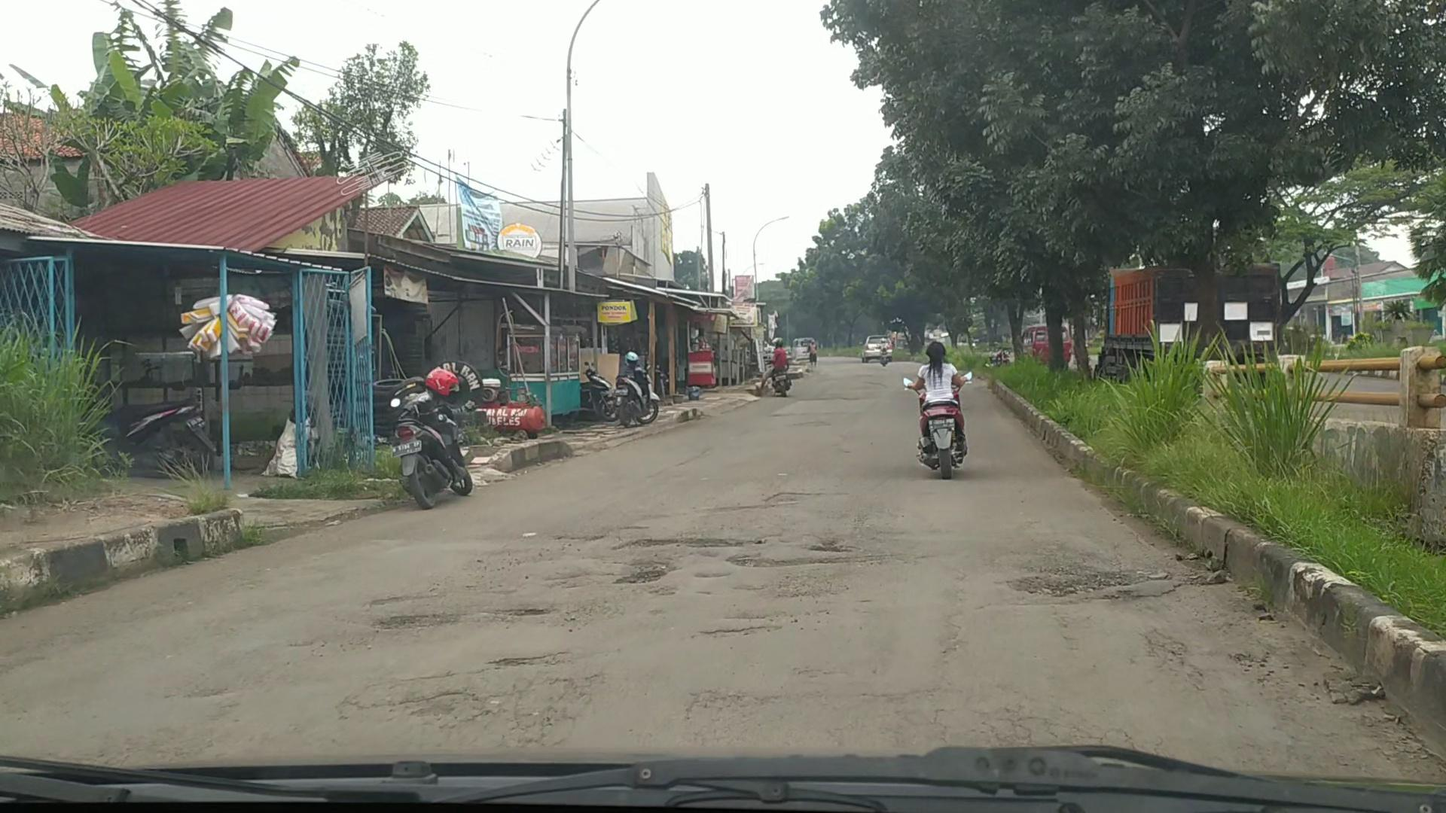pothole: (1009, 569, 1158, 597), (611, 532, 753, 552), (725, 552, 868, 569), (700, 623, 785, 640), (371, 613, 454, 630), (612, 565, 667, 587), (483, 651, 563, 666), (762, 489, 845, 501), (406, 702, 450, 722), (806, 535, 853, 553), (365, 593, 408, 607)
